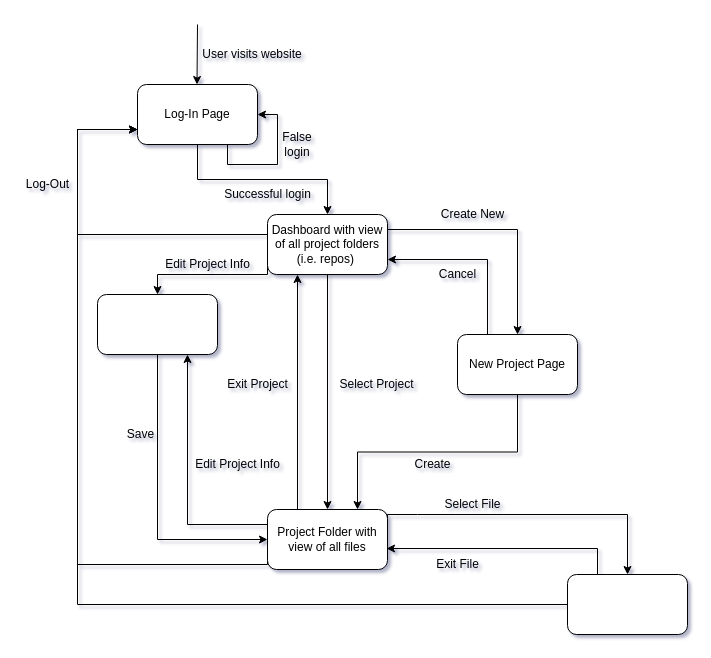
Some shapes in this 711 by 658 pixel diagram are drawn without their labels. The box of each missing label's shape, as (x1, y1, x2, y2) in pixels:
Edit Project (Name, Settings, etc.): (96, 294, 218, 354)
File Editor: (566, 574, 688, 634)
